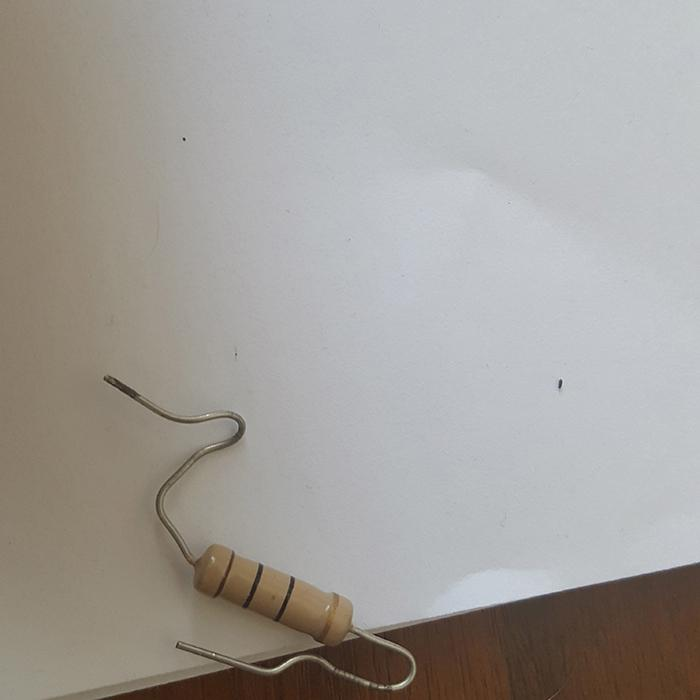resistor: (194, 543, 353, 645)
